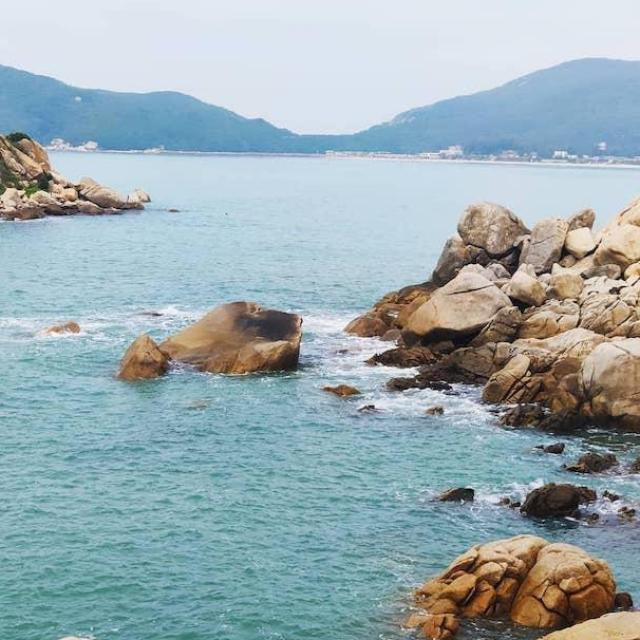reef: (309, 185, 640, 396), (359, 510, 619, 640), (0, 125, 192, 226)
